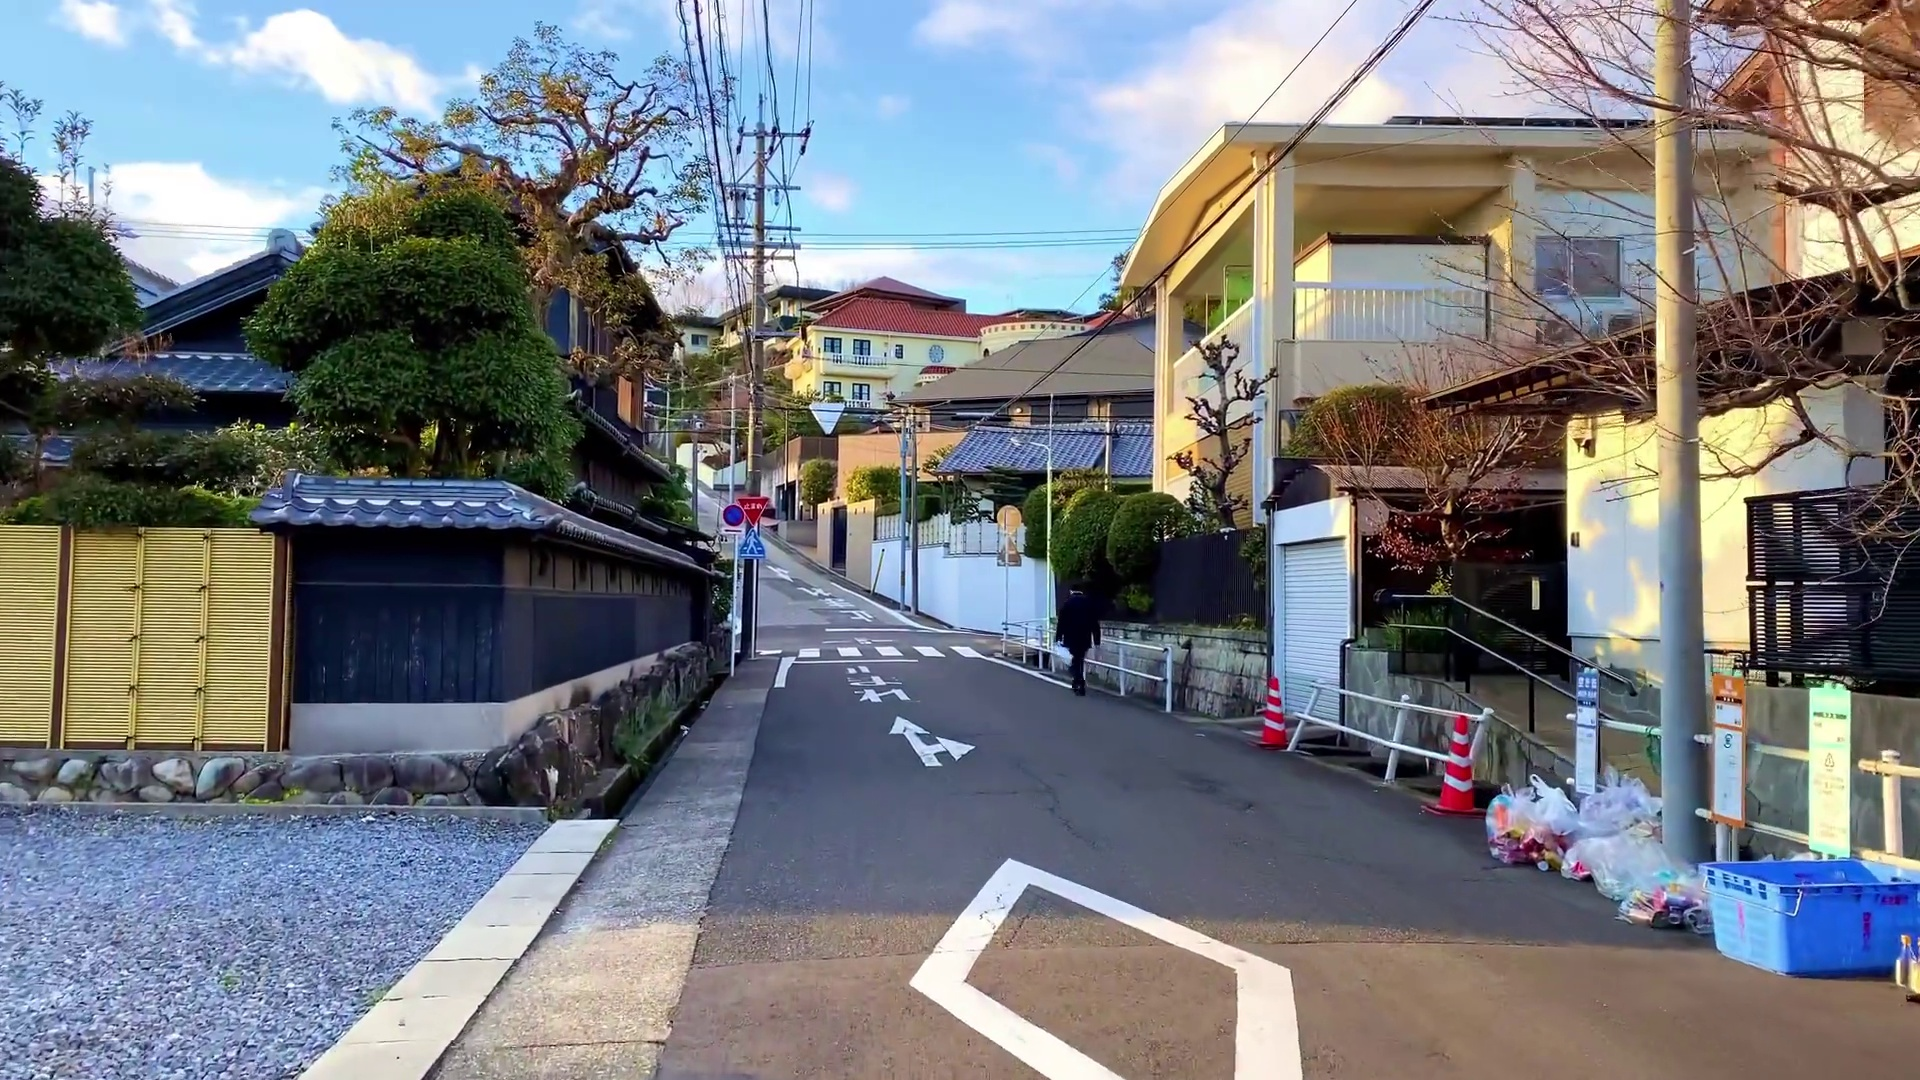person: (1054, 582, 1105, 695)
